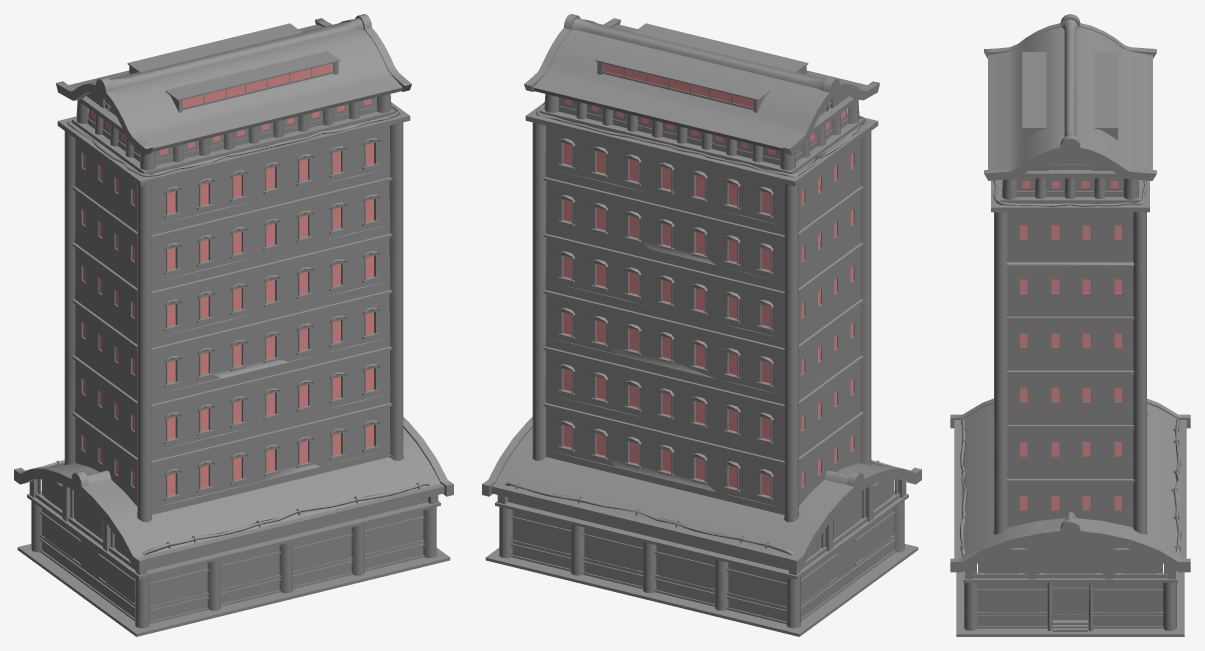
Rendered from SM_ENV_LKNVLD03_CommonBuilding_A_Tall.gltf.
The picture shows the model from 3 angles, left to right: view 1: azimuth 30°, elevation 25°; view 2: azimuth 150°, elevation 25°; view 3: azimuth 270°, elevation 25°; orthographic projection. The views are drawn at different scales.
Parts seen in each view (by area): view 1: SM_ENV_LKNVLD03_CommonBuilding_A_Tall; view 2: SM_ENV_LKNVLD03_CommonBuilding_A_Tall; view 3: SM_ENV_LKNVLD03_CommonBuilding_A_Tall.
Boxes of the visible parts, left/top/right/bottom form: SM_ENV_LKNVLD03_CommonBuilding_A_Tall: left=14, top=14, right=453, bottom=636; SM_ENV_LKNVLD03_CommonBuilding_A_Tall: left=482, top=14, right=921, bottom=636; SM_ENV_LKNVLD03_CommonBuilding_A_Tall: left=950, top=14, right=1190, bottom=636.
Bounding box in the file's own units: 35.05 × 54 × 24.13.
